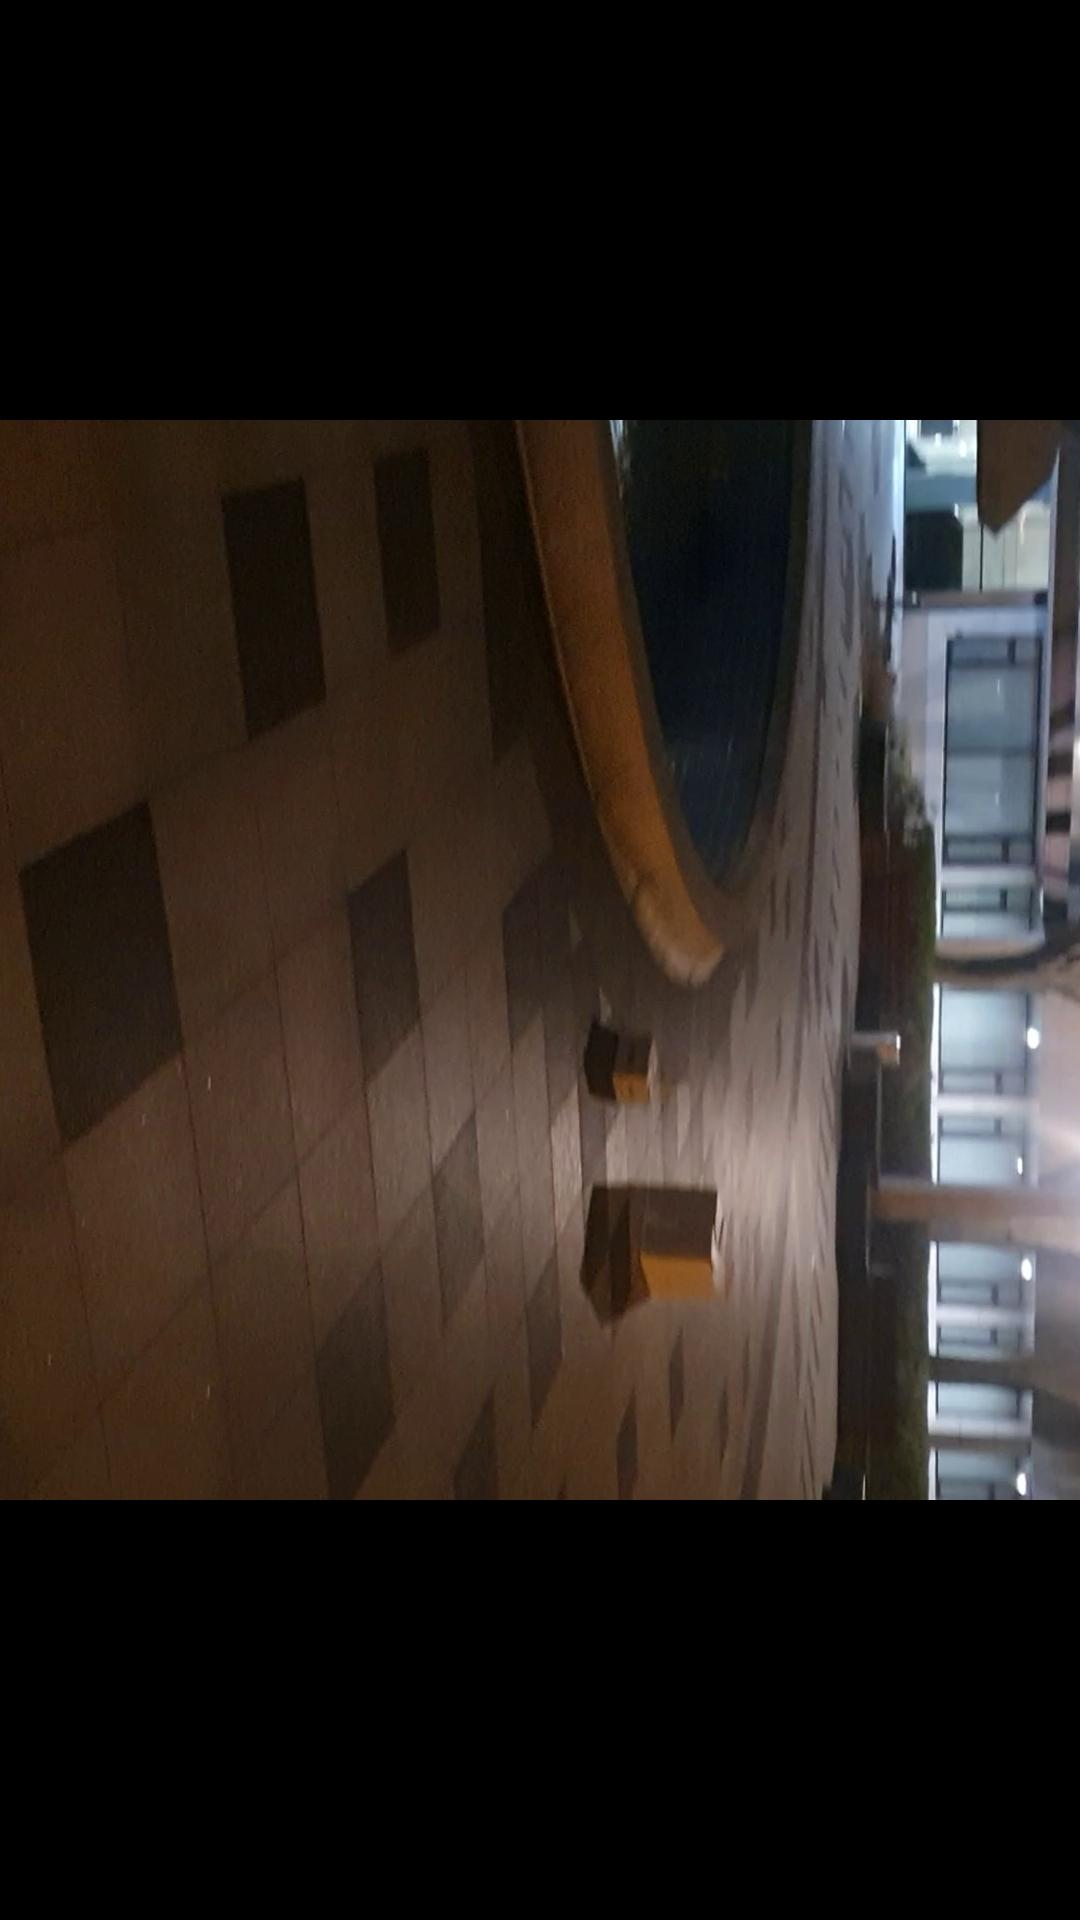Box: (611, 1176, 737, 1302), (592, 1026, 673, 1112)
